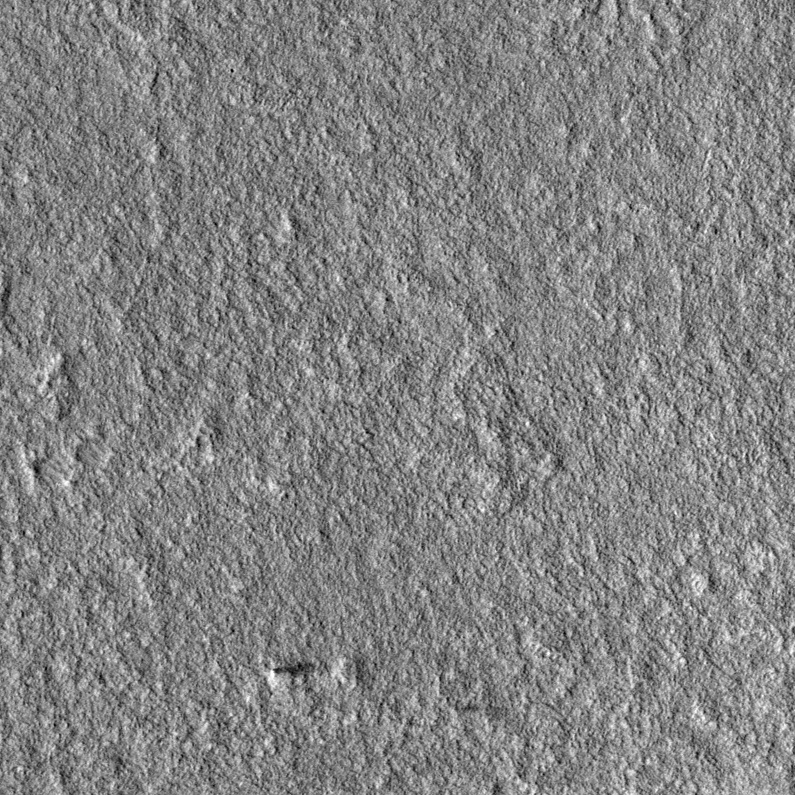dust_devil: (266, 659, 331, 692)
